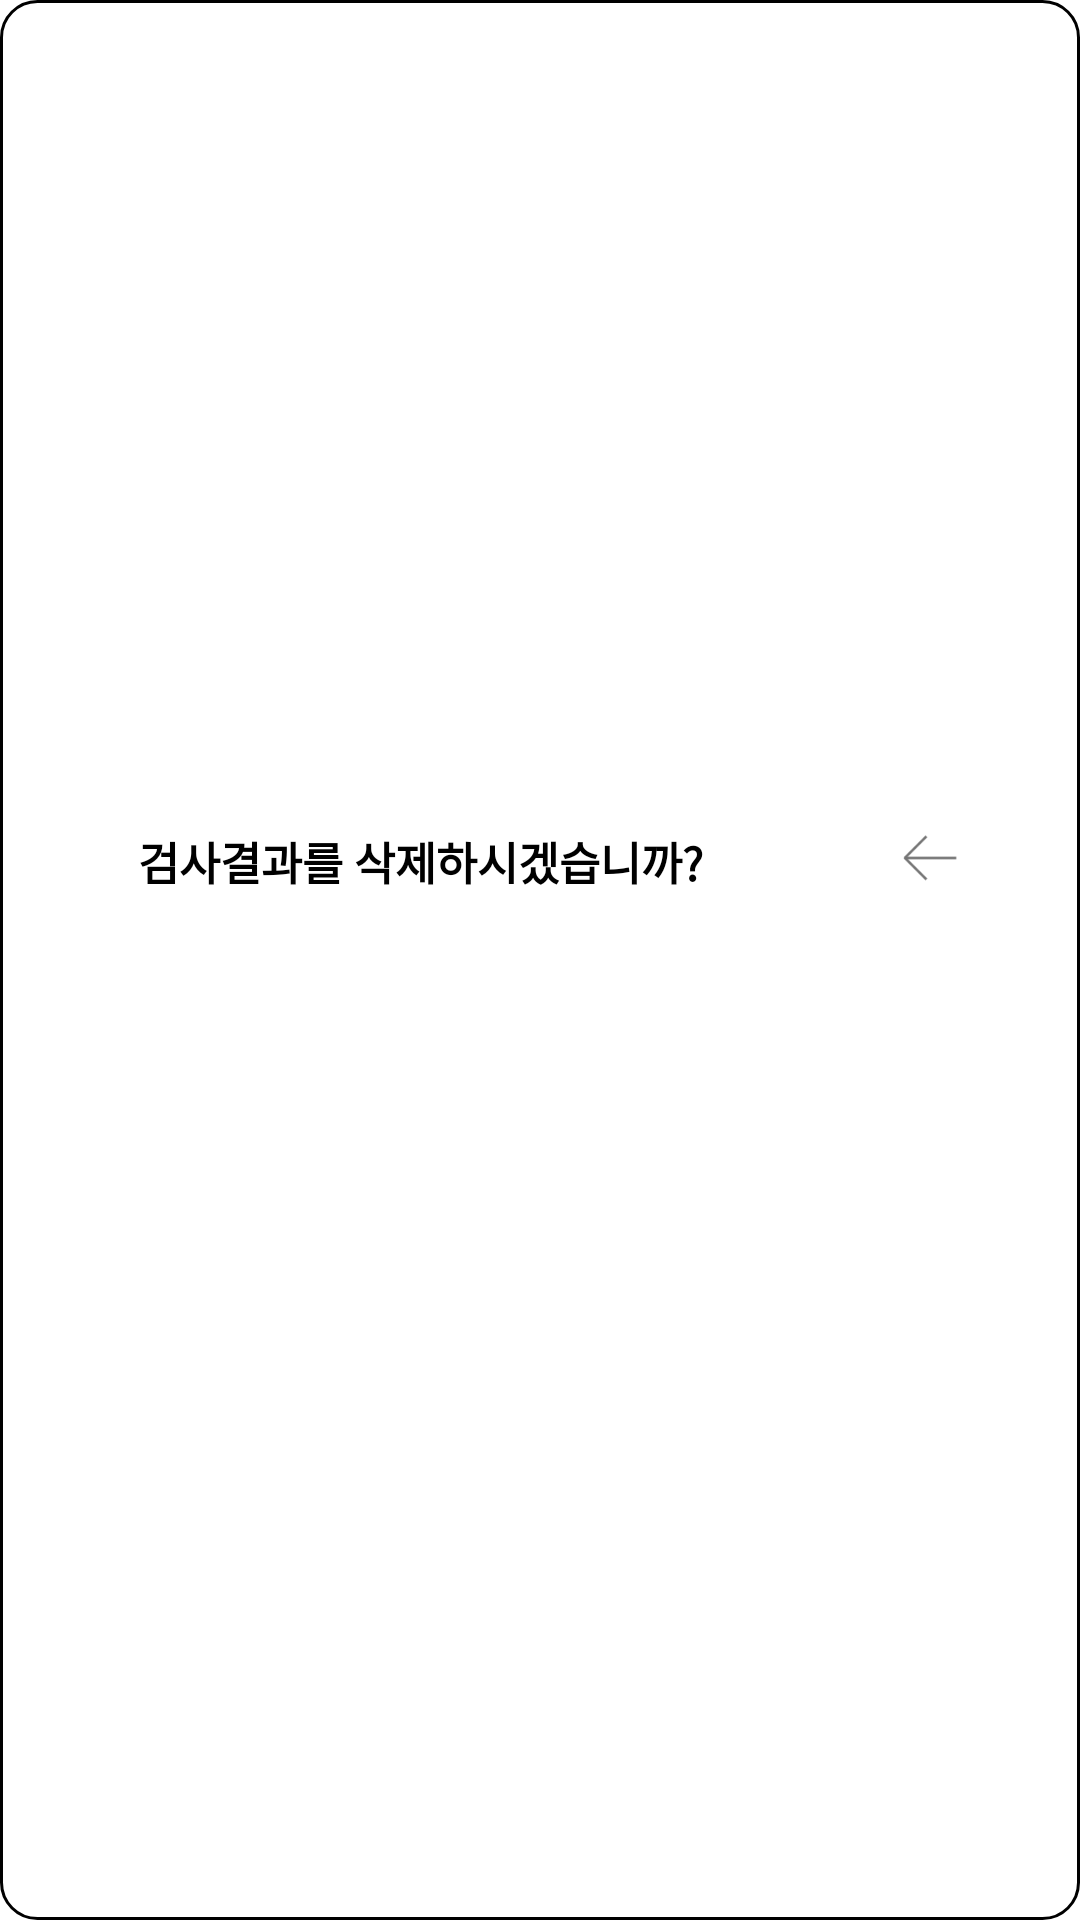

Icon click points for this 1080x1920 phone screenshot, format (x=x, y=y):
pageback: (x=930, y=858)
